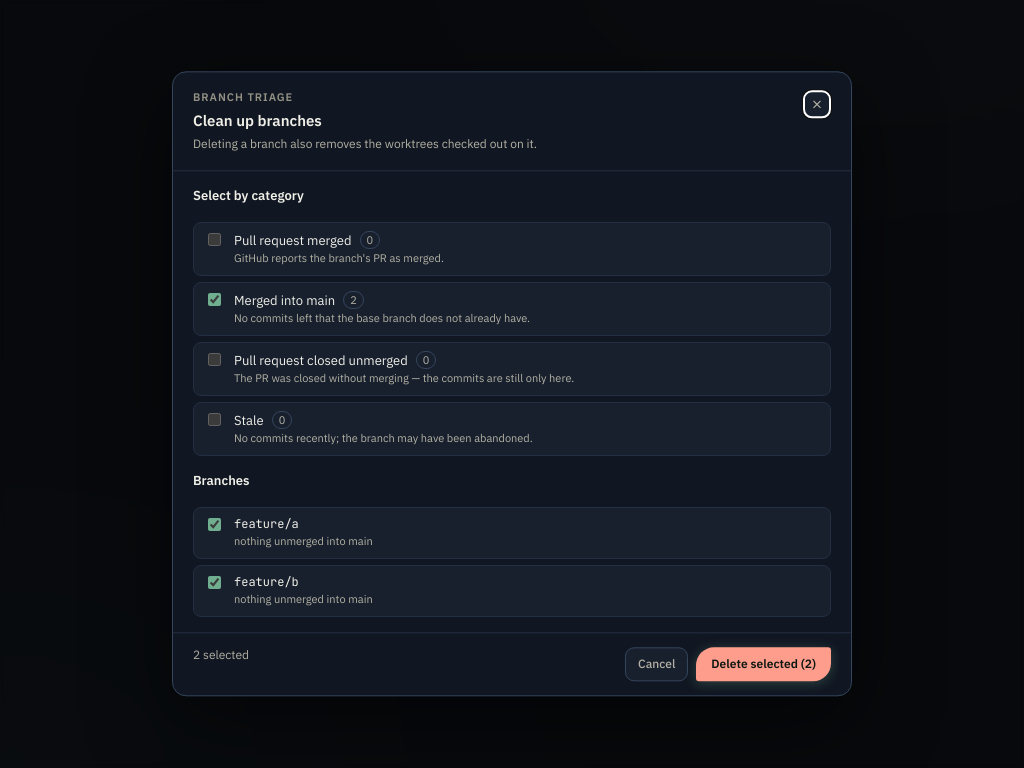
one branch failing does not stop the rest, and the failure is named
Click the button "Delete selected (2)" at (764, 664), box [696, 647, 831, 682]
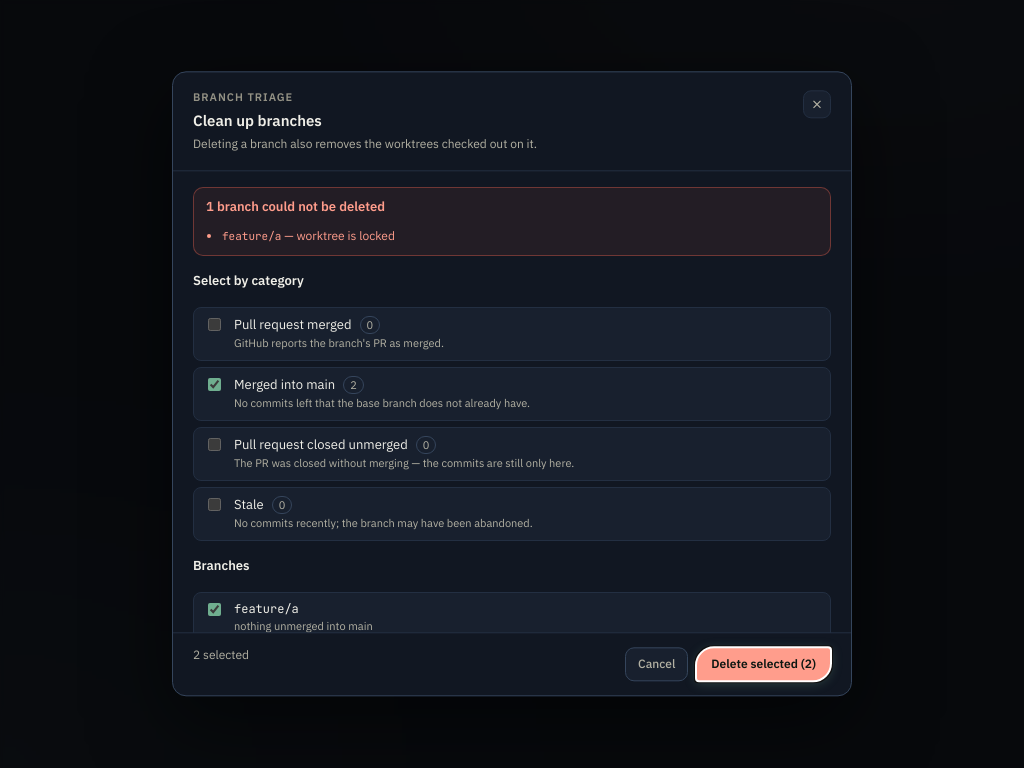
Result: the list item "feature/a — worktree is locked" is shown at [222, 228, 395, 243]
